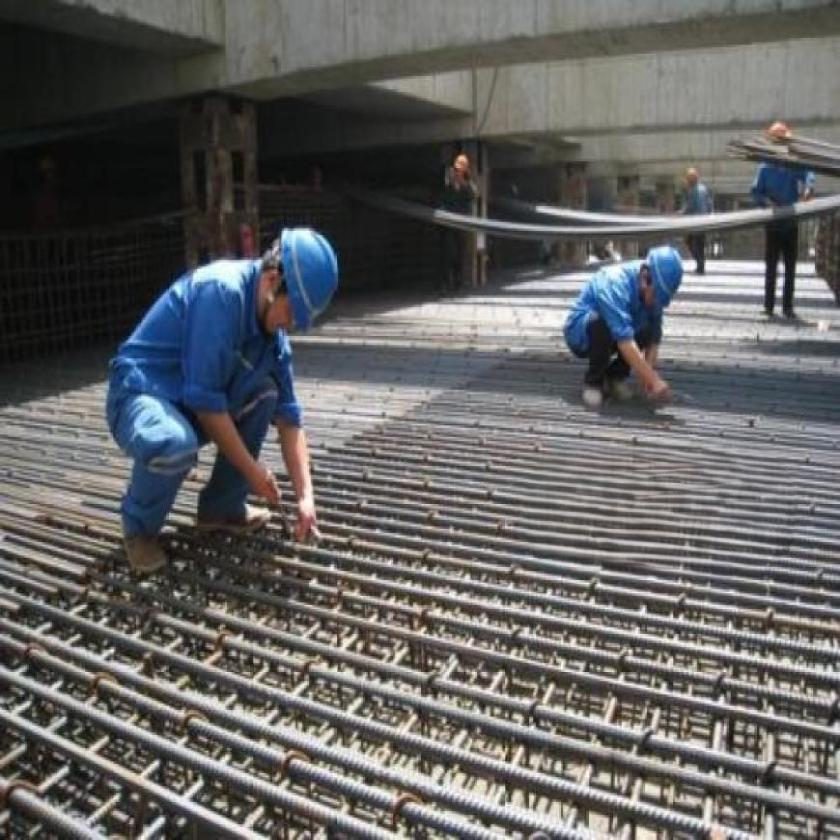Con_casco: (259, 215, 344, 343), (620, 231, 698, 328)
